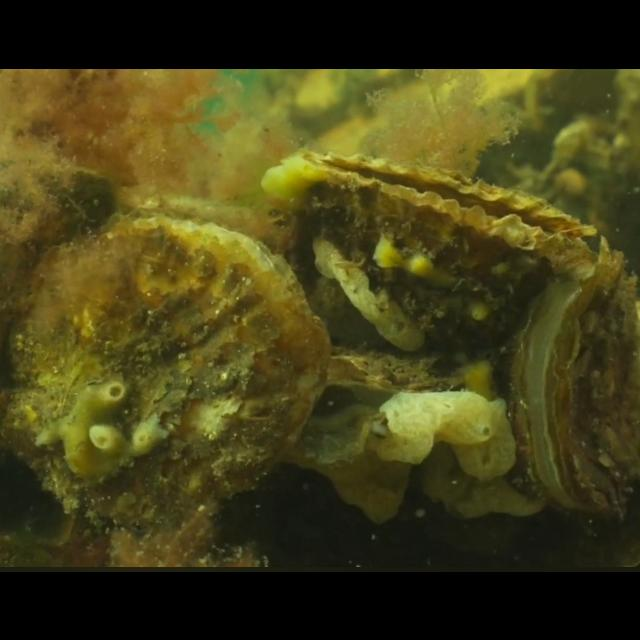Oyster-Closed: (0, 216, 332, 542)
Oyster-Open: (260, 146, 600, 352), (511, 236, 640, 521), (299, 344, 506, 466)
